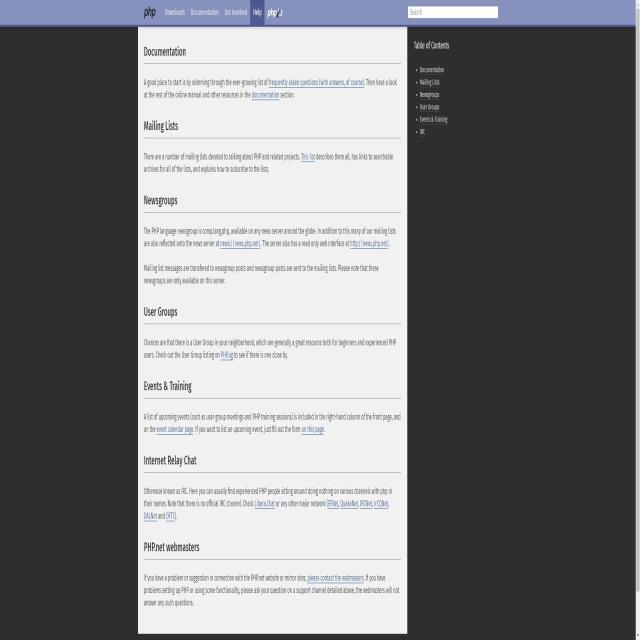search: (406, 4, 504, 20)
tab-bar: (140, 4, 284, 22)
